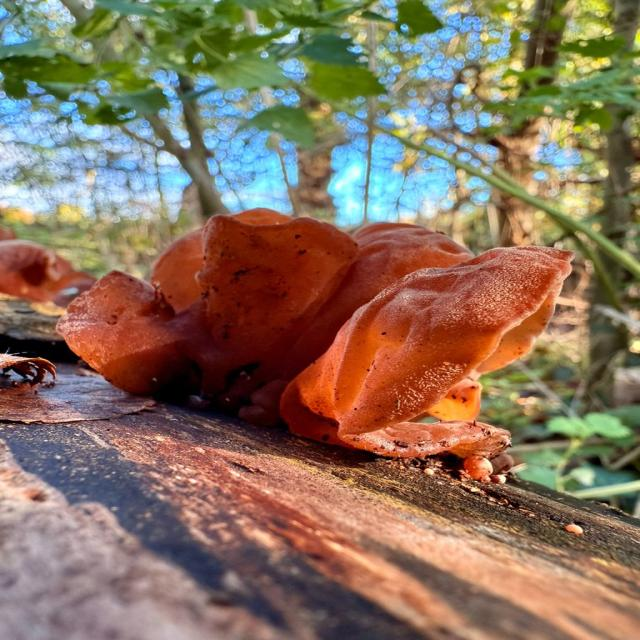Matang: (54, 204, 592, 494)
